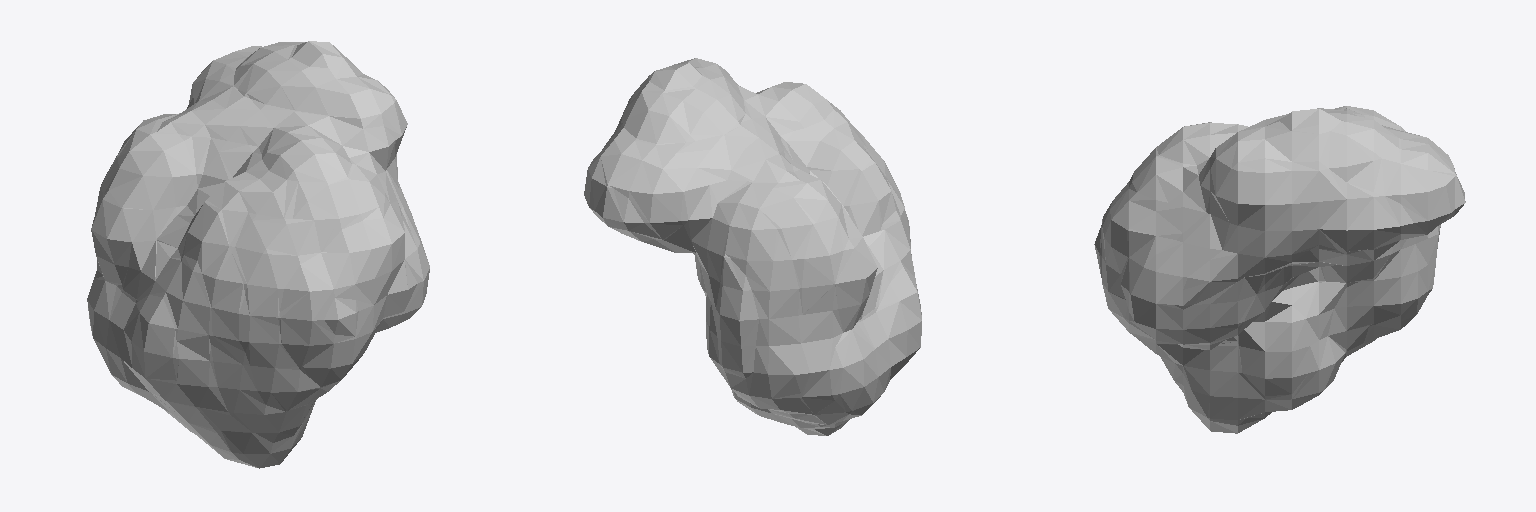
The model's file is 1qhg_cms.obj.
The picture shows the model from 3 angles: view 1: azimuth 30°, elevation 25°; view 2: azimuth 150°, elevation 25°; view 3: azimuth 270°, elevation 25°; orthographic projection.
Bounding box in the file's own units: 69.97 × 91.72 × 84.41.